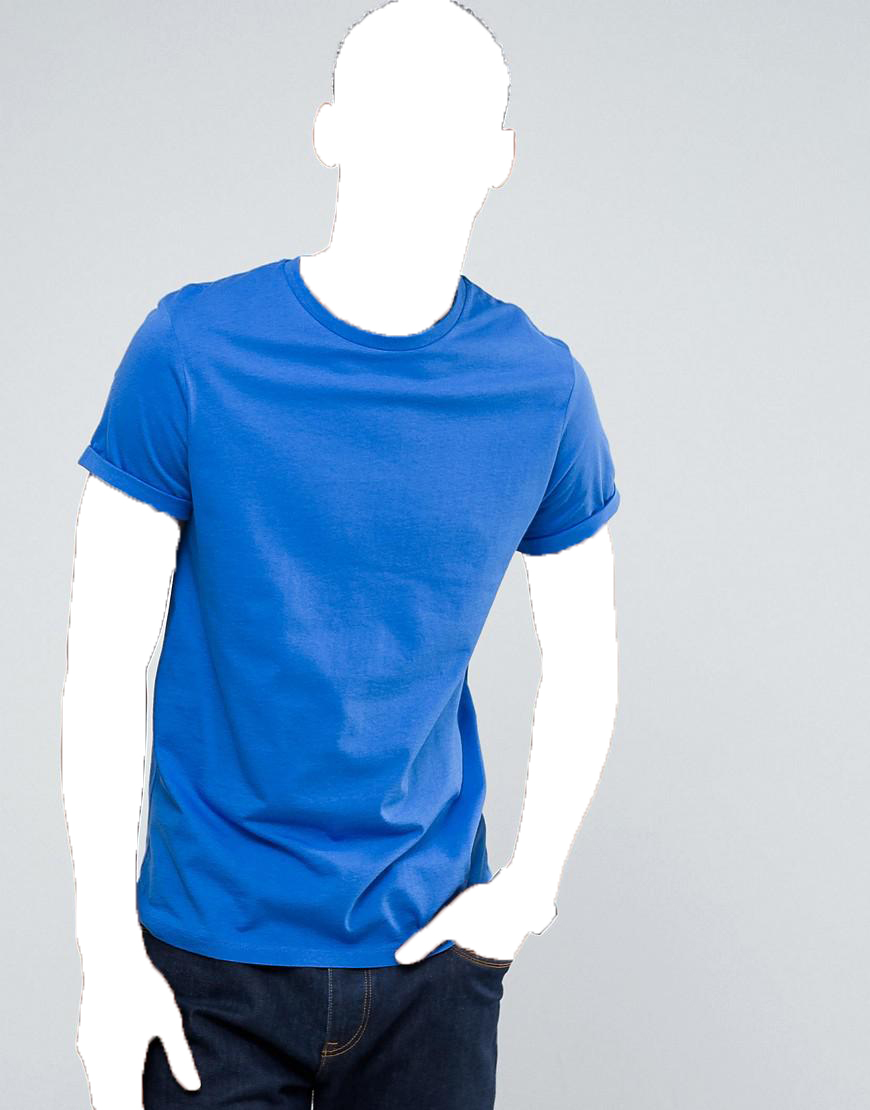teeshirt: (76, 251, 622, 974)
